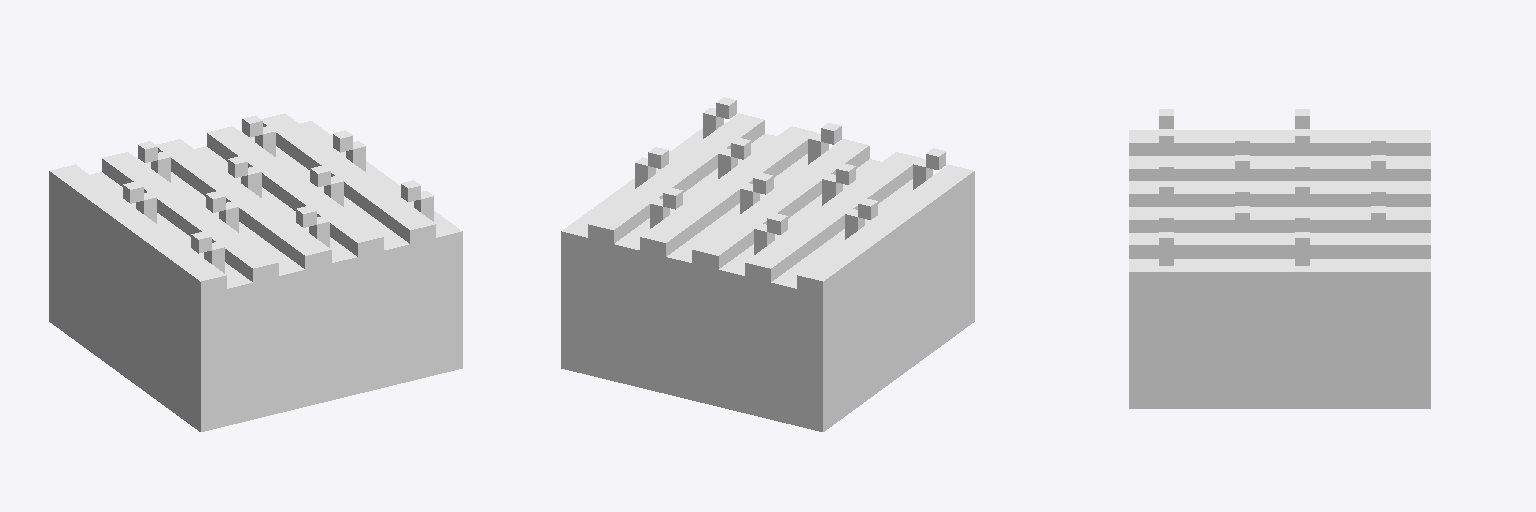
Rendered from Sunflower_Level_2.obj.
3 renders of one model, left to right at view 1: azimuth 30°, elevation 25°; view 2: azimuth 150°, elevation 25°; view 3: azimuth 270°, elevation 25°, orthographic.
Visible parts, largest first — view 1: Sunflower_Level_2; view 2: Sunflower_Level_2; view 3: Sunflower_Level_2.
Part boxes in pixels (bbox=[...]): Sunflower_Level_2: bbox=[49, 113, 462, 431]; Sunflower_Level_2: bbox=[561, 97, 974, 431]; Sunflower_Level_2: bbox=[1129, 109, 1430, 408].
Bounding box in the file's own units: 20 × 13 × 20.